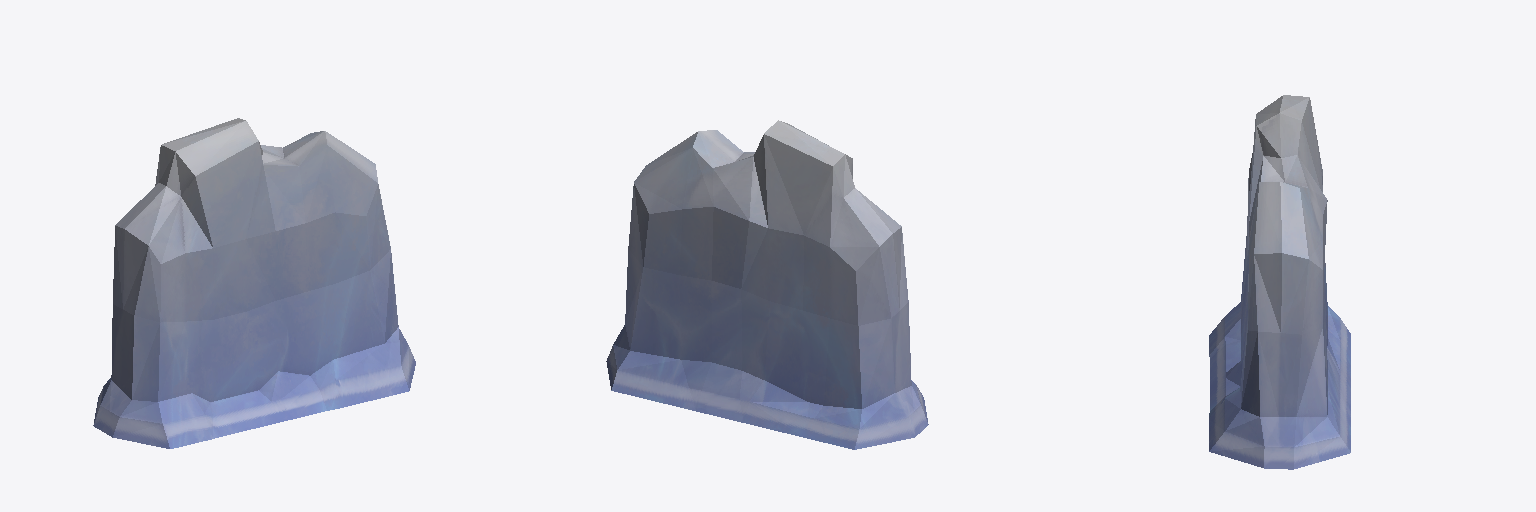
The picture shows the model from 3 angles: view 1: azimuth 30°, elevation 25°; view 2: azimuth 150°, elevation 25°; view 3: azimuth 270°, elevation 25°; orthographic projection.
Parts seen in each view (by area): view 1: Projectile_Wall_Ice2; view 2: Projectile_Wall_Ice2; view 3: Projectile_Wall_Ice2.
Part boxes in pixels (left/top/right/bottom): Projectile_Wall_Ice2: left=93, top=118, right=415, bottom=448; Projectile_Wall_Ice2: left=606, top=120, right=928, bottom=449; Projectile_Wall_Ice2: left=1209, top=95, right=1350, bottom=469.
Size of the model in its own units: 161 by 137 by 64.42.
1 materials, 1 textured.